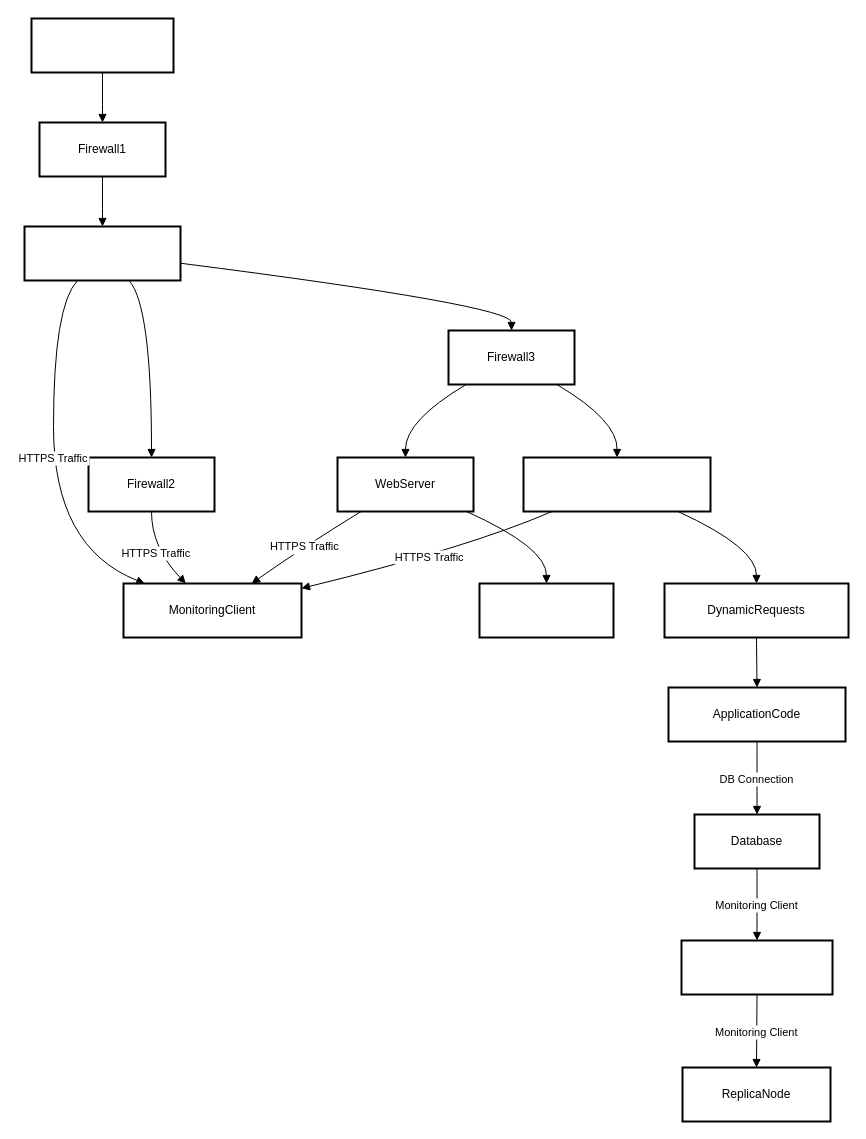
Image size: 866x1139. Some labels were removed from this diagram. The centre of each missing label's shape, as x and y in pixels:
"ApplicationServer" belongs at (x=616, y=484).
"LoadBalancer" belongs at (x=102, y=253).
"PrimaryNode" belongs at (x=756, y=967).
"StaticFiles" belongs at (x=546, y=610).
"Utilisateurs" belongs at (x=102, y=45).
